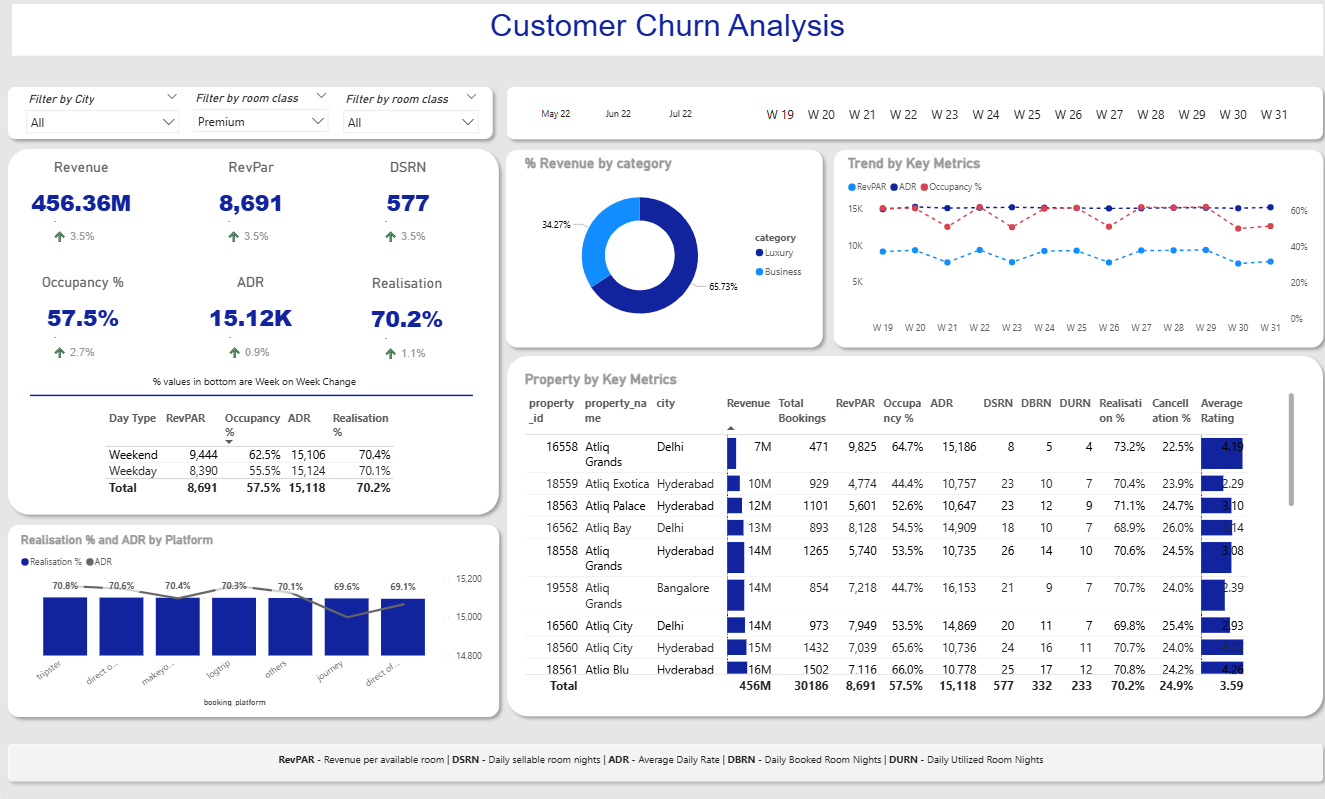

This screenshot's page, from the dashboard's own definition file:
{"tool":"powerbi","page":{"name":"Home","canvas":[1800,1100],"ordinal":0},"visuals":[{"type":"shape","box":[0.2,123.6,675.2,88.8],"z":0},{"type":"shape","box":[676,122.7,1124,89.3],"z":1000},{"type":"shape","box":[676,488,1124,506.7],"z":2000},{"type":"shape","box":[675.1,208.6,447.6,286.1],"z":3000},{"type":"shape","box":[1118.6,208.6,681.7,286.1],"z":4000},{"type":"shape","box":[0.2,207,683.4,513.9],"z":5000},{"type":"slicer","fields":{"Values":["dim_rooms.room_class"]},"box":[250.7,133.3,202.7,72],"z":6000},{"type":"slicer","fields":{"Values":["dim_hotels.city"]},"box":[24,134.7,226.7,76],"z":7000},{"type":"slicer","fields":{"Values":["dim_date.mmm yy"]},"box":[683.6,145.5,302.1,47.8],"z":8000},{"type":"card","title":"Revenue","fields":{"Values":["key_measures.Revenue"]},"box":[30.7,230.7,154.7,95.8],"z":8000,"group":"g2"},{"type":"card","title":"RevPar","fields":{"Values":["key_measures.Rev Par"]},"box":[257.9,230.7,160.2,95.8],"z":9000,"group":"g2"},{"type":"card","title":"Occupancy %","fields":{"Values":["key_measures.Occupancy %"]},"box":[14.7,386.3,192,96],"z":9000,"group":"g1"},{"type":"tableEx","title":"Property by Key Metrics","fields":{"Values":["dim_hotels.property_id","dim_hotels.property_name","dim_hotels.city","key_measures.Revenue","key_measures.Total Bookings","key_measures.Rev Par","key_measures.Occupancy %","key_measures.ADR","key_measures.DSRN","key_measures.DBRN","key_measures.DURN","key_measures.Realisation %"]},"box":[704,517.3,1053.3,445.3],"z":9000},{"type":"lineChart","title":"Trend by Key Metrics","fields":{"Category":["dim_date.mmm yy.Variation.Date Hierarchy.Month","dim_date.week no"],"Y2":["key_measures.Occupancy %"],"Y":["key_measures.Rev Par","key_measures.ADR"]},"box":[1142.7,225.3,633.3,252],"z":10000},{"type":"card","title":"DSRN","fields":{"Values":["key_measures.DSRN"]},"box":[456.5,231.1,189.3,96],"z":11000,"group":"g2"},{"type":"tableEx","fields":{"Values":["dim_date.day type","key_measures.Rev Par","key_measures.Occupancy %","key_measures.ADR","key_measures.Realisation %"]},"box":[135.1,564.9,437.2,129.8],"z":11000},{"type":"card","title":"ADR","fields":{"Values":["key_measures.ADR"]},"box":[241.4,385.9,193.3,96],"z":12000,"group":"g1"},{"type":"shape","box":[0,716,684,278.7],"z":12000},{"type":"card","title":"Realisation","fields":{"Values":["key_measures.Realisation %"]},"box":[452.5,386.8,194.7,96],"z":13000,"group":"g1"},{"type":"lineStackedColumnComboChart","title":"Realisation % and ADR by Platform","fields":{"Category":["fact_bookings.booking_platform"],"Y":["key_measures.Realisation %"],"Y2":["key_measures.ADR"]},"box":[21.3,736,634.7,241.3],"z":13000},{"type":"slicer","fields":{"Values":["dim_date.week no"]},"box":[1002.7,145.3,773.3,48],"z":14000},{"type":"shape","box":[0,1013.3,1800,69.3],"z":15000},{"type":"group","id":"g1","title":"Group 1","box":[14.7,385.9,632.4,96.9],"z":16000},{"type":"slicer","fields":{"Values":["dim_rooms.room_class"]},"box":[453.3,134.7,202.7,72],"z":17000},{"type":"group","id":"g2","title":"Group 2","box":[30.7,230.7,615.1,96.4],"z":18000},{"type":"tableEx","fields":{"Values":["key_measures.Revpar WoW change %"]},"box":[296,297.3,92,58.7],"z":19000},{"type":"textbox","box":[345,1029.6,1093.6,39],"z":20000},{"type":"shape","box":[38.7,542.7,600,14.7],"z":21000},{"type":"tableEx","fields":{"Values":["key_measures.Revpar WoW change %"]},"box":[61.3,297.3,92,58.7],"z":22000},{"type":"tableEx","fields":{"Values":["key_measures.Revpar WoW change %"]},"box":[509.3,297.3,92,58.7],"z":23000},{"type":"donutChart","title":"% Revenue by category","fields":{"Category":["dim_hotels.category"],"Y":["key_measures.Revenue"]},"box":[704,225.3,396,248],"z":24000},{"type":"group","id":"g3","title":"Group 3","box":[61.3,454.3,540,60],"z":25000},{"type":"textbox","box":[200,517.3,308,33.3],"z":26000},{"type":"textbox","box":[15,20,1776.2,70],"z":27000},{"type":"tableEx","fields":{"Values":["key_measures.Occupancy WoW change %"]},"box":[61.3,454.3,92,58.7],"z":27000,"group":"g3"},{"type":"tableEx","fields":{"Values":["key_measures.ADR WoW change %"]},"box":[298.6,454.3,92,58.7],"z":28000,"group":"g3"},{"type":"tableEx","fields":{"Values":["key_measures.Realisation WoW change %"]},"box":[509.3,455.6,92,58.7],"z":29000,"group":"g3"}]}

Visuals, with their boxes in screenshot pixels (x1, y1, x2, y2), scaled from the page's 1800x1100 canvas onto the 1325x799 screenshot:
shape: crop(0, 90, 497, 154)
shape: crop(498, 89, 1324, 154)
shape: crop(498, 354, 1324, 723)
shape: crop(497, 152, 826, 359)
shape: crop(823, 152, 1324, 359)
shape: crop(0, 150, 503, 524)
slicer - dim_rooms.room_class: crop(185, 97, 334, 149)
slicer - dim_hotels.city: crop(18, 98, 185, 153)
slicer - dim_date.mmm yy: crop(503, 106, 726, 140)
"Revenue" card: crop(23, 168, 136, 237)
"RevPar" card: crop(190, 168, 308, 237)
"Occupancy %" card: crop(11, 281, 152, 350)
"Property by Key Metrics" tableEx: crop(518, 376, 1294, 699)
"Trend by Key Metrics" lineChart: crop(841, 164, 1307, 347)
"DSRN" card: crop(336, 168, 475, 238)
tableEx - dim_date.day type x key_measures.Rev Par: crop(99, 410, 421, 505)
"ADR" card: crop(178, 280, 320, 350)
shape: crop(0, 520, 504, 723)
"Realisation" card: crop(333, 281, 476, 351)
"Realisation % and ADR by Platform" lineStackedColumnComboChart: crop(16, 535, 483, 710)
slicer - dim_date.week no: crop(738, 106, 1307, 140)
shape: crop(0, 736, 1324, 786)
"Group 1" group: crop(11, 280, 476, 351)
slicer - dim_rooms.room_class: crop(334, 98, 483, 150)
"Group 2" group: crop(23, 168, 475, 238)
tableEx - key_measures.Revpar WoW change %: crop(218, 216, 286, 259)
textbox: crop(254, 748, 1059, 776)
shape: crop(28, 394, 470, 405)
tableEx - key_measures.Revpar WoW change %: crop(45, 216, 113, 259)
tableEx - key_measures.Revpar WoW change %: crop(375, 216, 443, 259)
"% Revenue by category" donutChart: crop(518, 164, 810, 344)
"Group 3" group: crop(45, 330, 443, 374)
textbox: crop(147, 376, 374, 400)
textbox: crop(11, 15, 1319, 65)
tableEx - key_measures.Occupancy WoW change %: crop(45, 330, 113, 373)
tableEx - key_measures.ADR WoW change %: crop(220, 330, 288, 373)
tableEx - key_measures.Realisation WoW change %: crop(375, 331, 443, 374)
